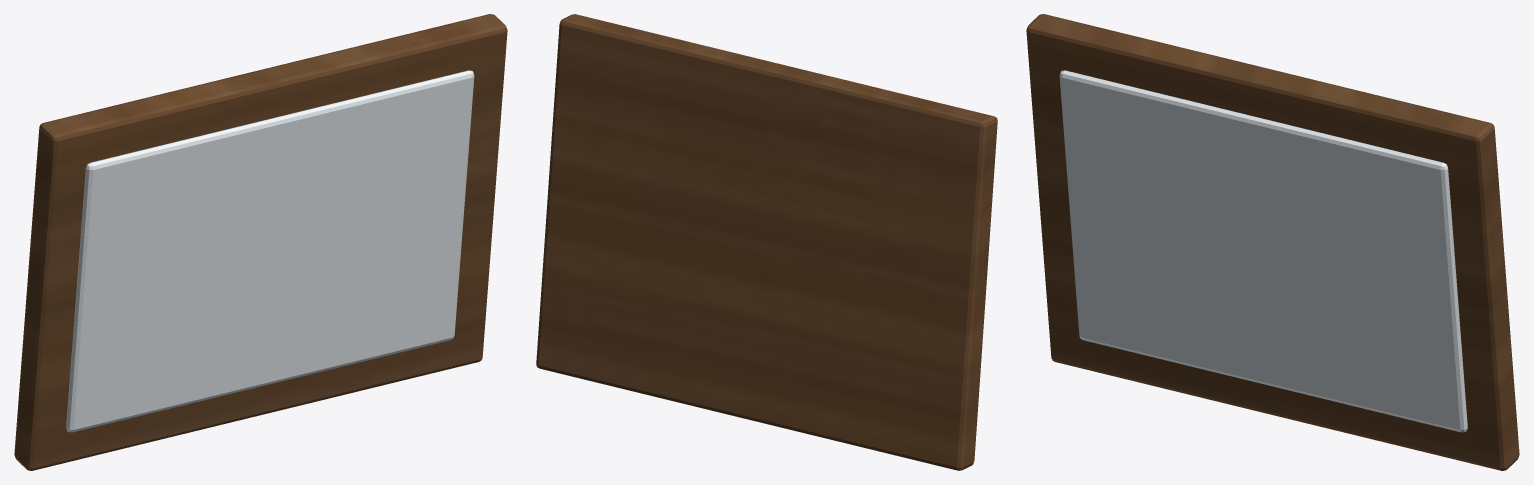
Rendered from picture_frame.glb.
3 views of the same model, side by side, from view 1: azimuth 30°, elevation 25°; view 2: azimuth 150°, elevation 25°; view 3: azimuth 330°, elevation 25° (orthographic). The views are drawn at different scales.
Parts seen in each view (by area): view 1: part_tilt__picture_frame; view 2: part_tilt__picture_frame; view 3: part_tilt__picture_frame.
Boxes of the visible parts, left/top/right/bottom form: part_tilt__picture_frame: left=14, top=14, right=507, bottom=470; part_tilt__picture_frame: left=536, top=14, right=997, bottom=470; part_tilt__picture_frame: left=1026, top=14, right=1519, bottom=470.
Bounding box in the file's own units: 0.4 × 0.2997 × 0.0642.
Materials: 2 (1 with a texture image).
